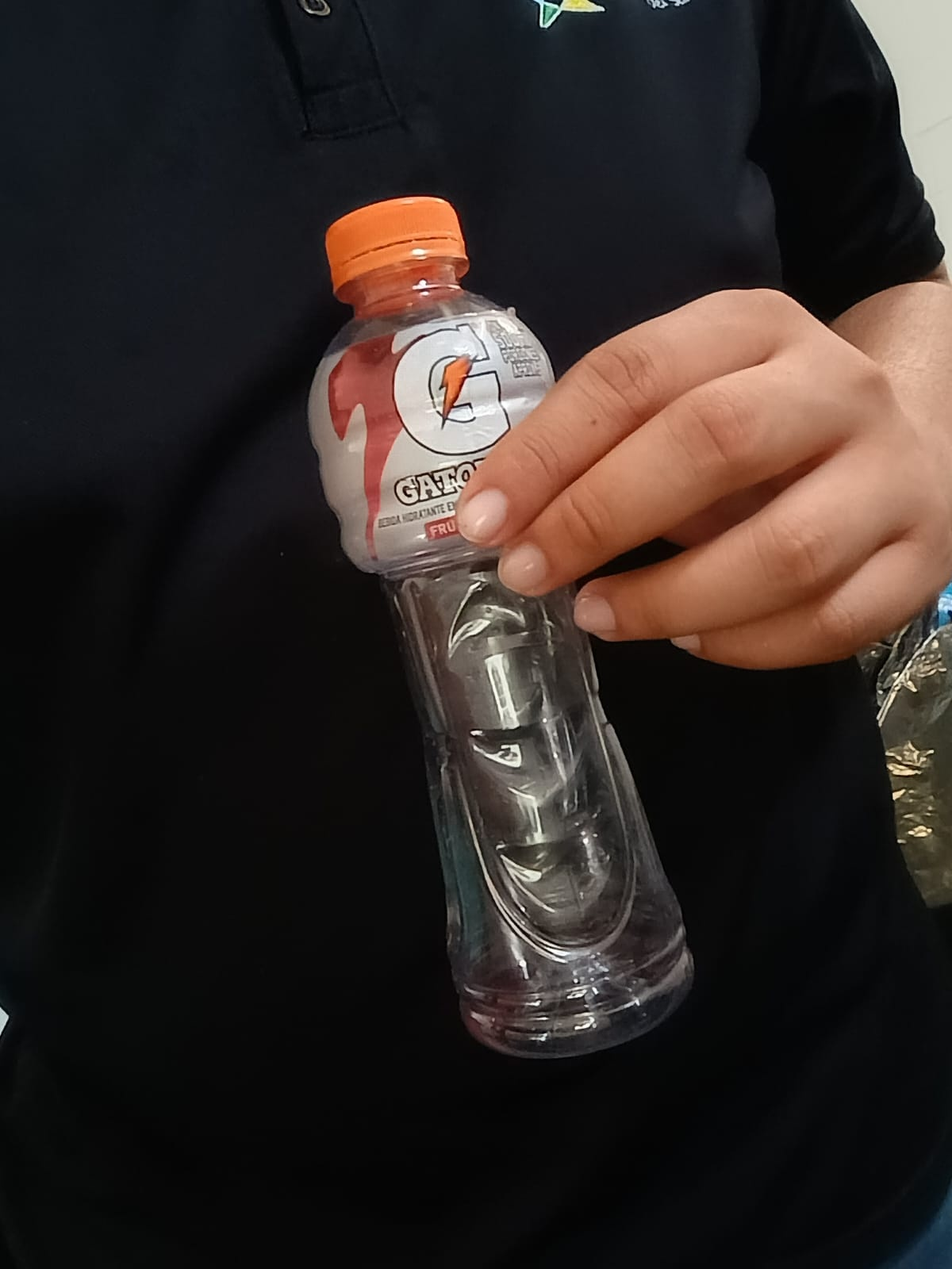Plastico: (308, 193, 690, 1060)
